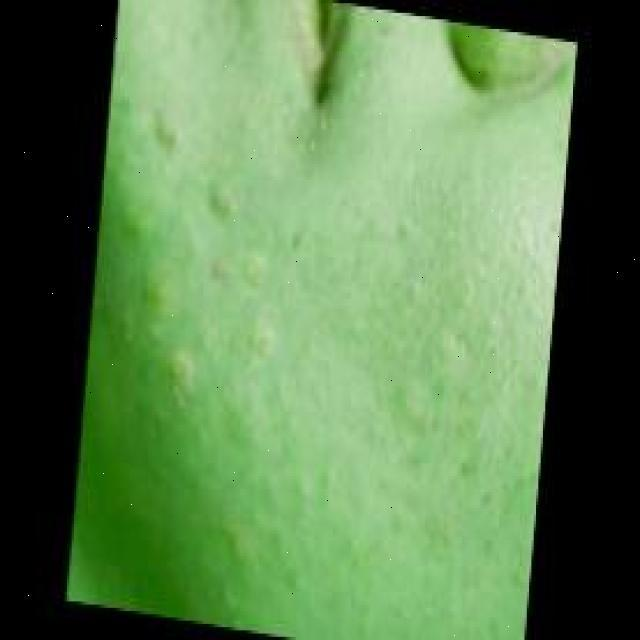Acne: (125, 125, 278, 391)
